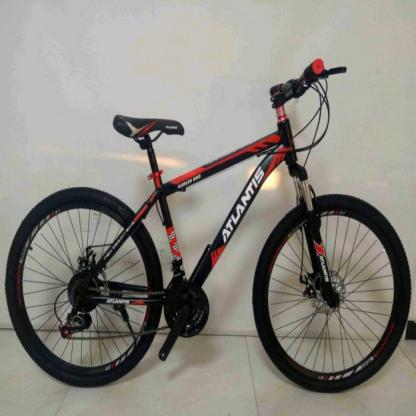Bike: (6, 56, 413, 394)
